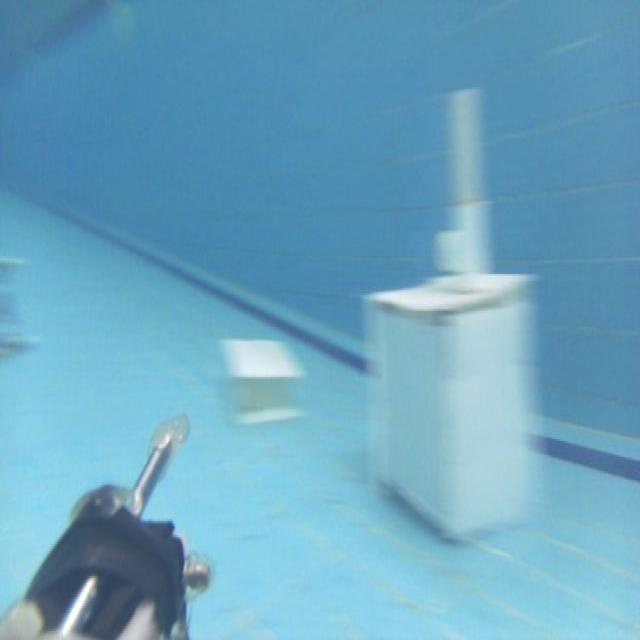Cube: (359, 267, 541, 542)
Cuboid: (209, 320, 308, 430)
